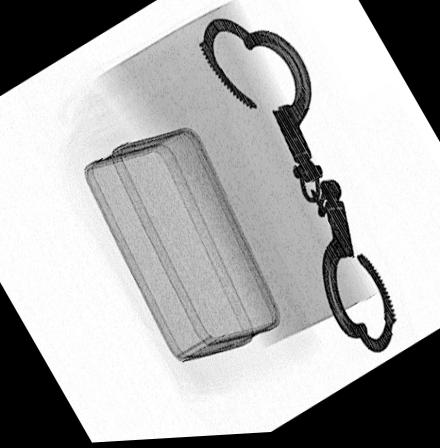HandCuffs: (198, 17, 400, 356)
